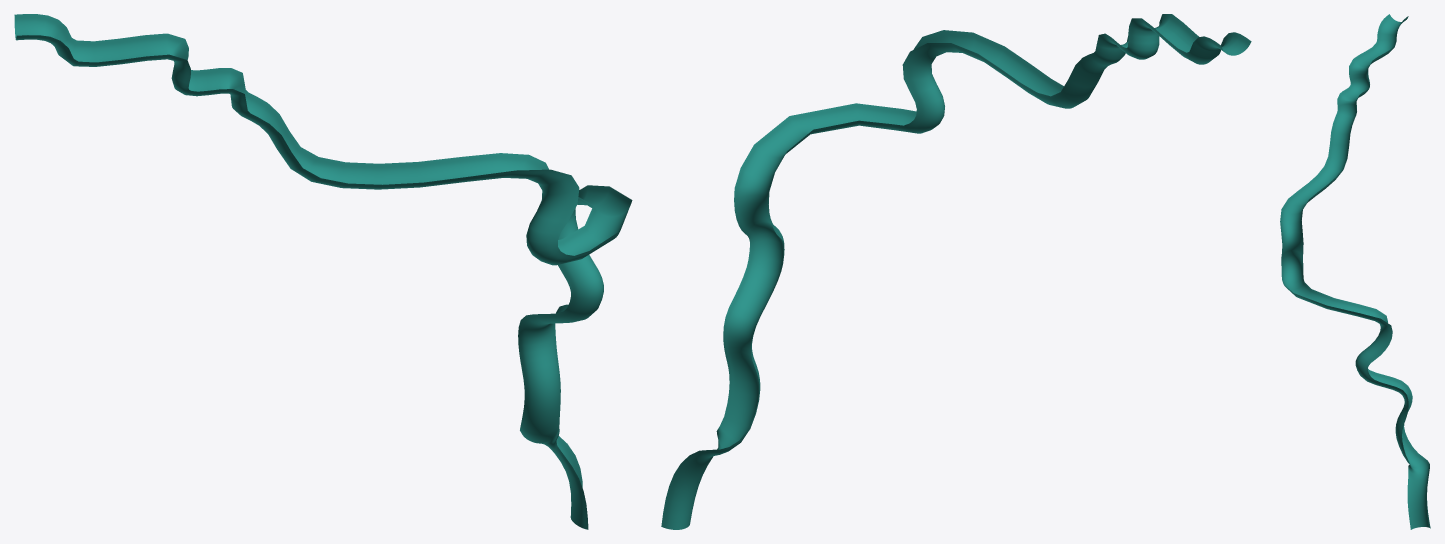
File: Slide01.DAE
The picture shows the model from 3 angles, left to right: view 1: azimuth 30°, elevation 25°; view 2: azimuth 150°, elevation 25°; view 3: azimuth 270°, elevation 25°; orthographic projection. The views are drawn at different scales.
Visible parts, largest first — view 1: Slide; view 2: Slide; view 3: Slide.
Boxes of the visible parts, x1,y1,x2,y2 form: Slide: (14,14,632,529); Slide: (661,14,1251,529); Slide: (1280,14,1430,529).
Bounding box in the file's own units: 538 × 213 × 561.
